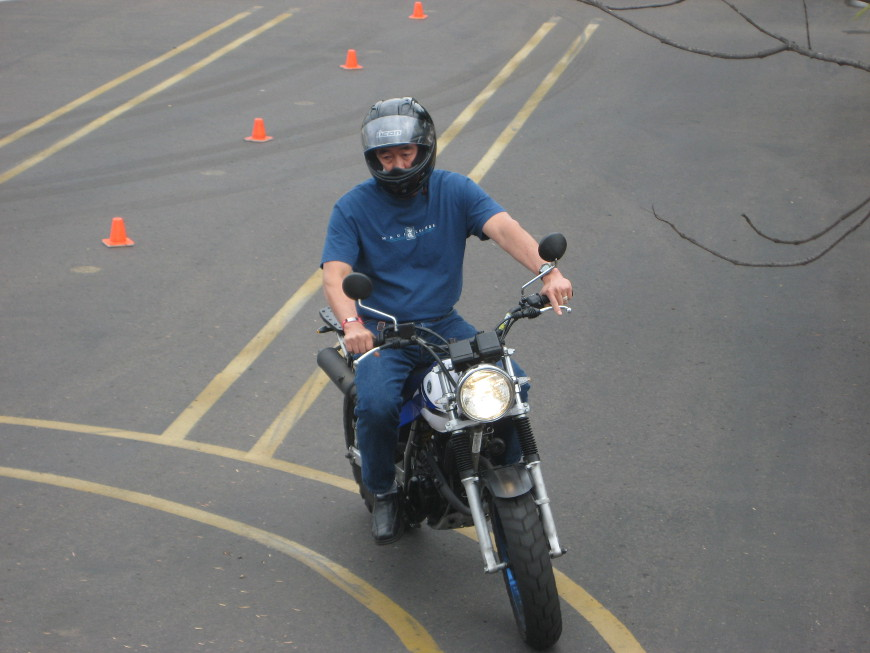motorcycle: (311, 236, 626, 648)
